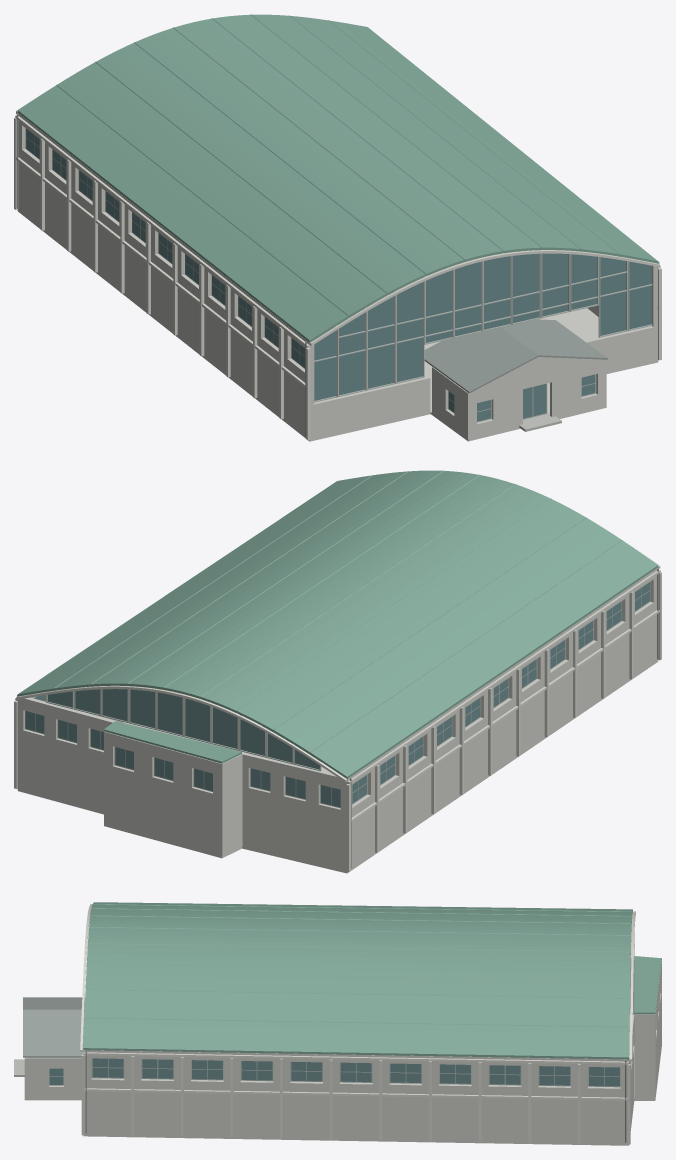
The picture shows the model from 3 angles, top to bottom: view 1: azimuth 30°, elevation 25°; view 2: azimuth 150°, elevation 25°; view 3: azimuth 270°, elevation 25°; orthographic projection. The views are drawn at different scales.
Visible parts, largest first — view 1: euncheon__roof, euncheon__wall, euncheon__glass, euncheon__white, euncheon__metal, euncheon__frame; view 2: euncheon__roof, euncheon__wall, euncheon__glass, euncheon__white, euncheon__frame; view 3: euncheon__roof, euncheon__wall, euncheon__white, euncheon__glass, euncheon__metal, euncheon__frame.
Part boxes in pixels (left/top/right/bottom): euncheon__roof: left=17, top=14, right=658, bottom=342; euncheon__wall: left=17, top=113, right=658, bottom=441; euncheon__glass: left=26, top=129, right=651, bottom=421; euncheon__white: left=14, top=57, right=661, bottom=440; euncheon__metal: left=16, top=114, right=659, bottom=436; euncheon__frame: left=25, top=128, right=652, bottom=422; euncheon__roof: left=17, top=470, right=658, bottom=778; euncheon__wall: left=17, top=567, right=658, bottom=873; euncheon__glass: left=25, top=582, right=649, bottom=807; euncheon__white: left=14, top=502, right=661, bottom=872; euncheon__frame: left=25, top=582, right=650, bottom=808; euncheon__roof: left=83, top=902, right=661, bottom=1059; euncheon__wall: left=24, top=912, right=661, bottom=1145; euncheon__white: left=80, top=904, right=635, bottom=1144; euncheon__glass: left=49, top=1058, right=619, bottom=1086; euncheon__metal: left=23, top=997, right=626, bottom=1142; euncheon__frame: left=49, top=1058, right=620, bottom=1087.
Size of the model in its own units: 29.42 by 11.18 by 51.05.
